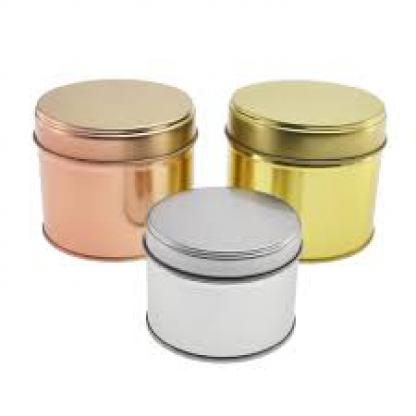METAL: (29, 79, 198, 259), (226, 80, 387, 260), (140, 186, 302, 358)
